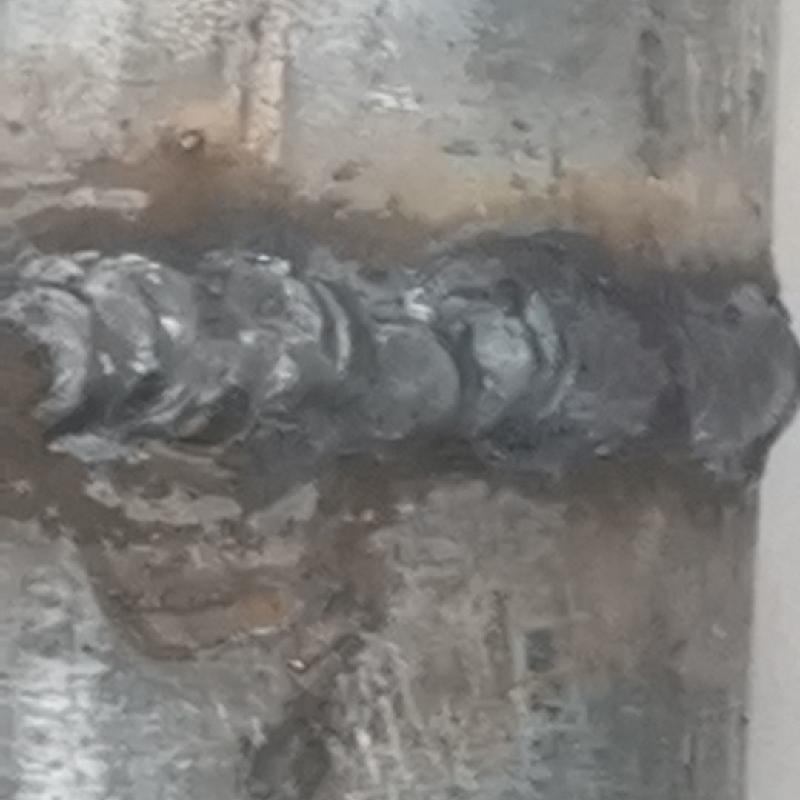good: (1, 220, 799, 489)
